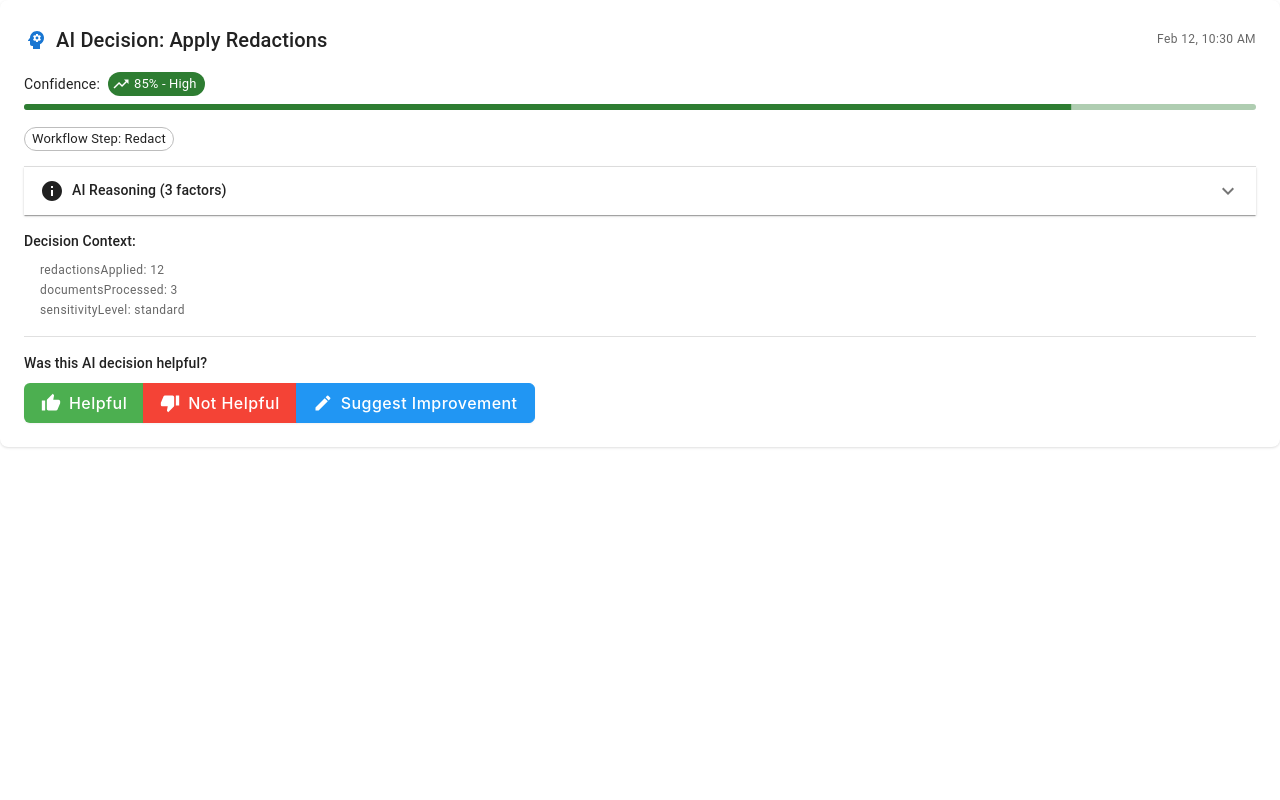
Test case: AIDecisionTransparency › Reasoning Display › expands reasoning accordion to show details
Click the button "AI Reasoning (3 factors)" at {"x": 118, "y": 190}, box [40,179,1240,203]
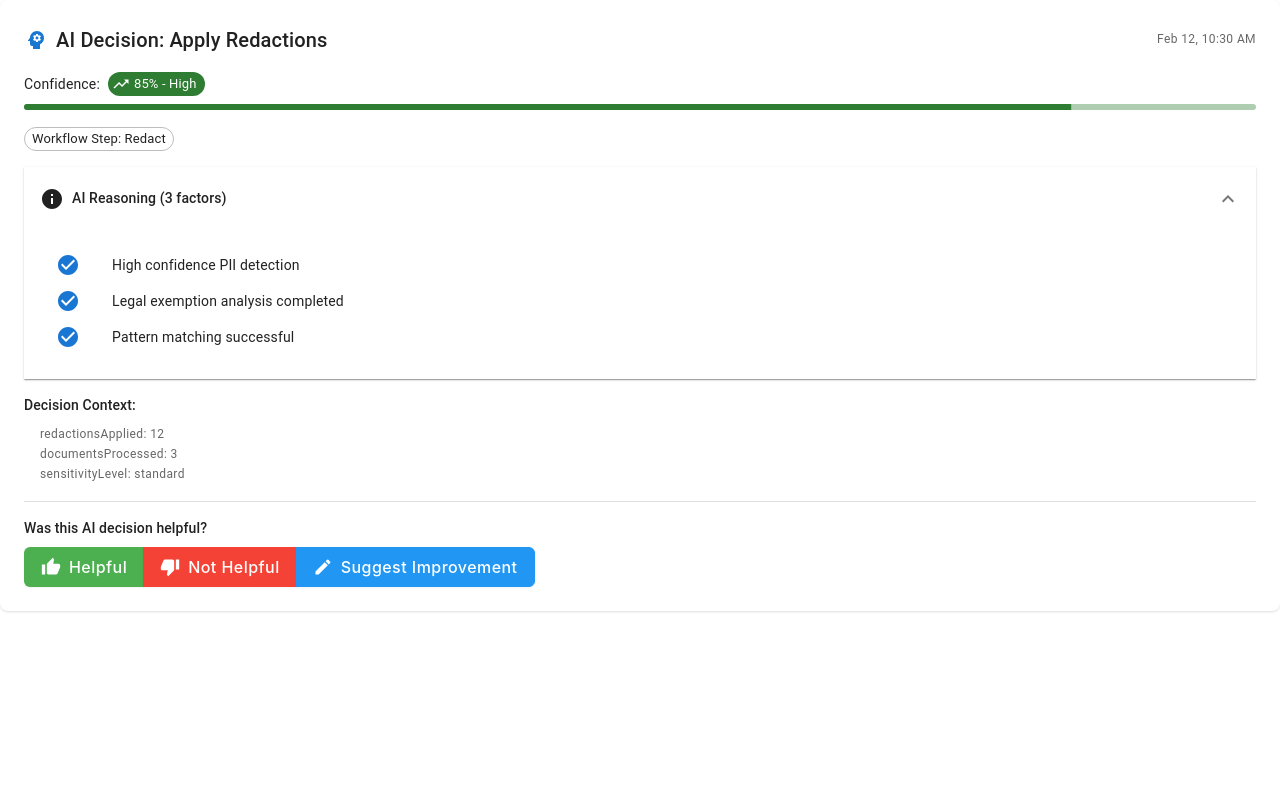
Expected: the text "High confidence PII detection" is shown, [112,257,300,273]
Expected: the text "Legal exemption analysis completed" is shown, [112,293,344,309]
Expected: the text "Pattern matching successful" is shown, [112,329,294,345]
